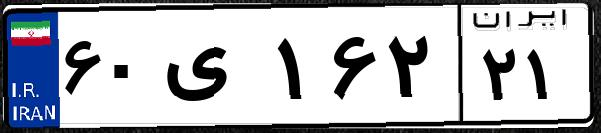0: (110, 28, 158, 98)
1: (270, 28, 330, 110), (525, 38, 570, 115)
2: (385, 28, 445, 110), (475, 38, 525, 113)
6: (330, 28, 385, 110), (57, 26, 110, 100)
ی: (158, 20, 270, 120)
